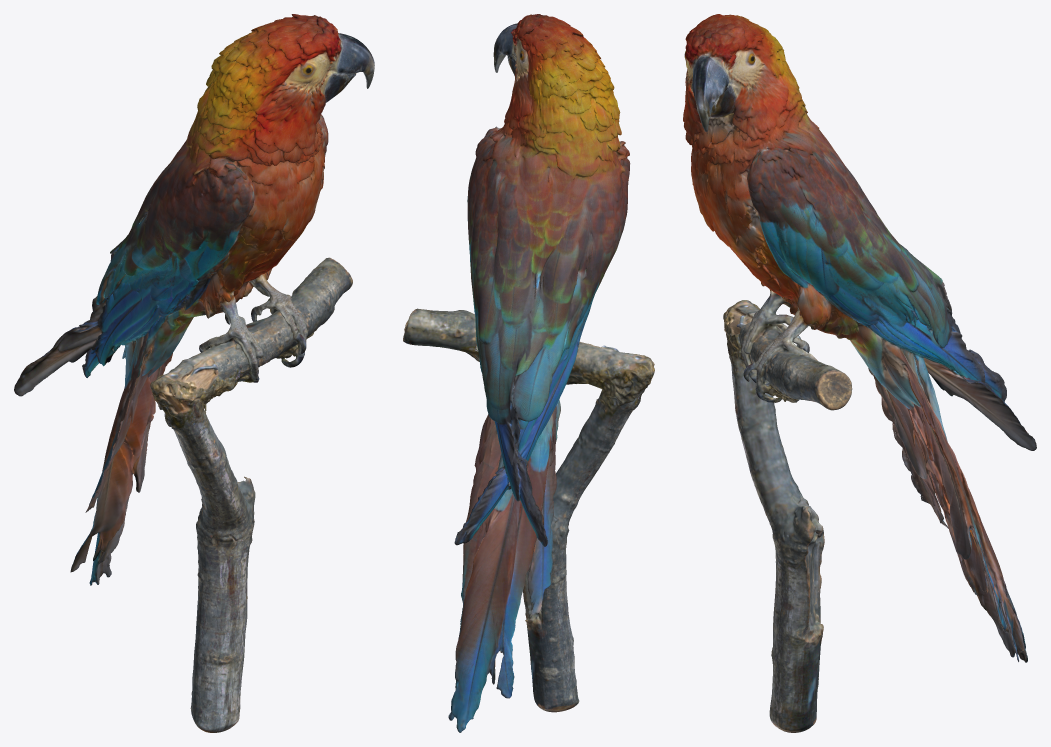
File: arara.glb
The picture shows the model from 3 angles, left to right: view 1: azimuth 30°, elevation 25°; view 2: azimuth 150°, elevation 25°; view 3: azimuth 270°, elevation 25°; orthographic projection. The views are drawn at different scales.
Visible parts, largest first — view 1: Object_3, Object_2; view 2: Object_3, Object_2; view 3: Object_3, Object_2.
Boxes of the visible parts, left/top/right/bottom form: Object_3: left=55, top=14, right=374, bottom=728; Object_2: left=14, top=25, right=374, bottom=732; Object_3: left=407, top=14, right=654, bottom=732; Object_2: left=403, top=15, right=652, bottom=722; Object_3: left=683, top=14, right=1032, bottom=732; Object_2: left=683, top=14, right=1036, bottom=721.
Size of the model in its own units: 0.327 by 0.9141 by 0.4015.
Materials: 1 (1 with a texture image).
